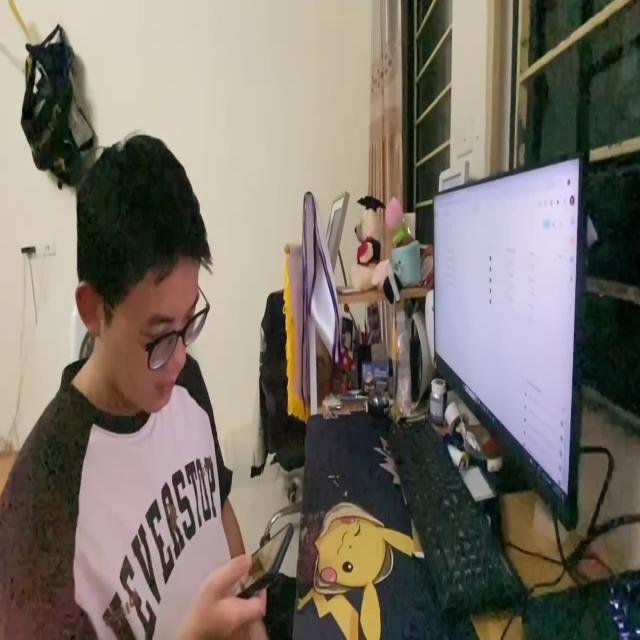laptop: (416, 147, 590, 531)
phone: (228, 514, 293, 598)
student: (0, 130, 292, 640)
